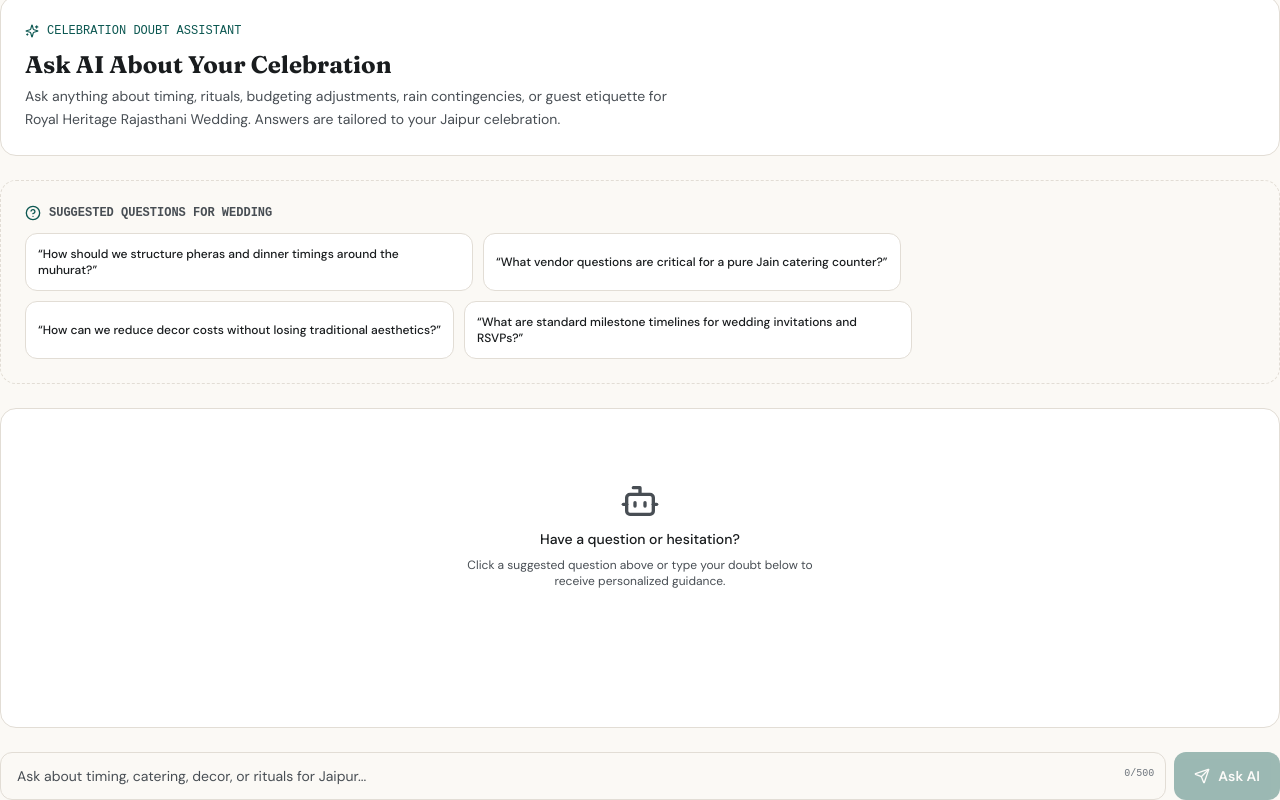
TabAskAi Component › submits a user question and renders AI response
This screenshot has width=1280, height=800.
Step 1. Type "What is the best timing for pheras?" into the field named "Ask a celebration doubt or question" → coordinates (583, 776), box [0,752,1166,799]
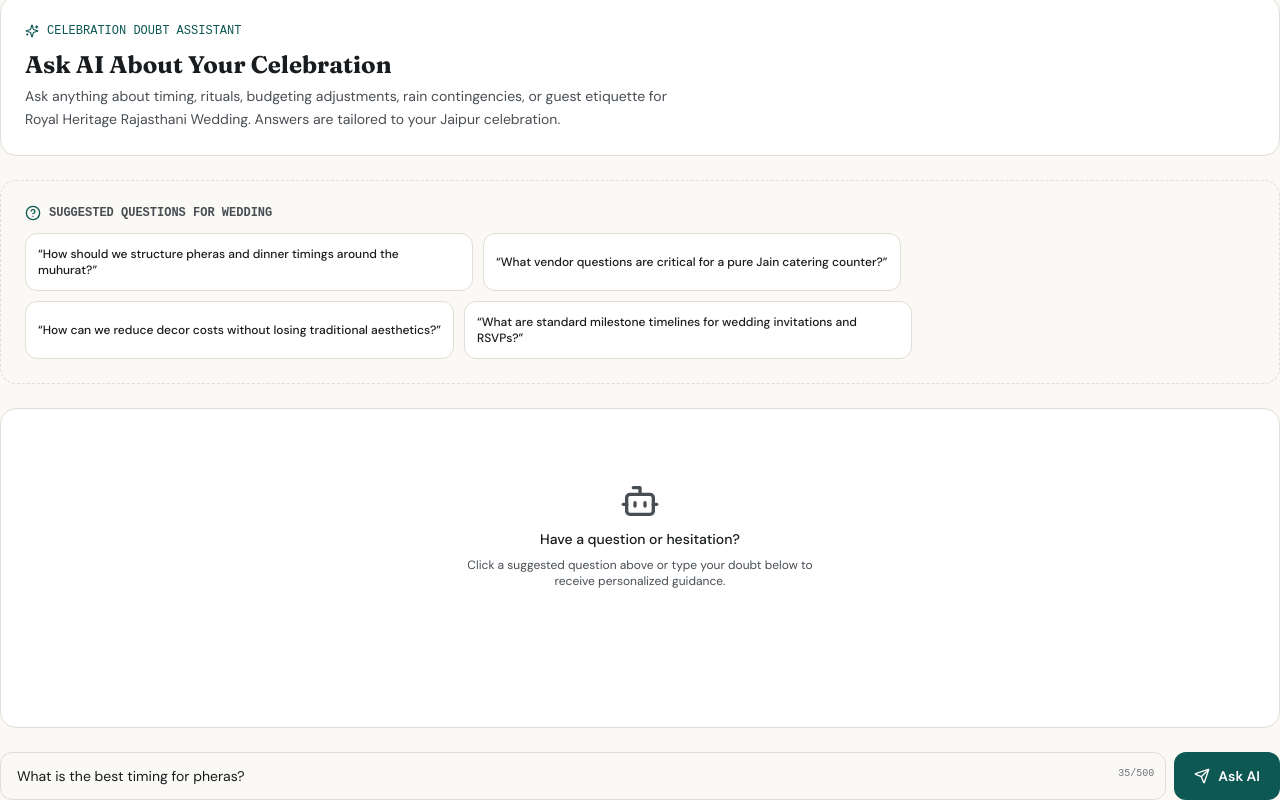
Step 2. Click the button with aria-label "Send celebration inquiry" → coordinates (1227, 776), box [1174,752,1279,799]
(page scrolled)
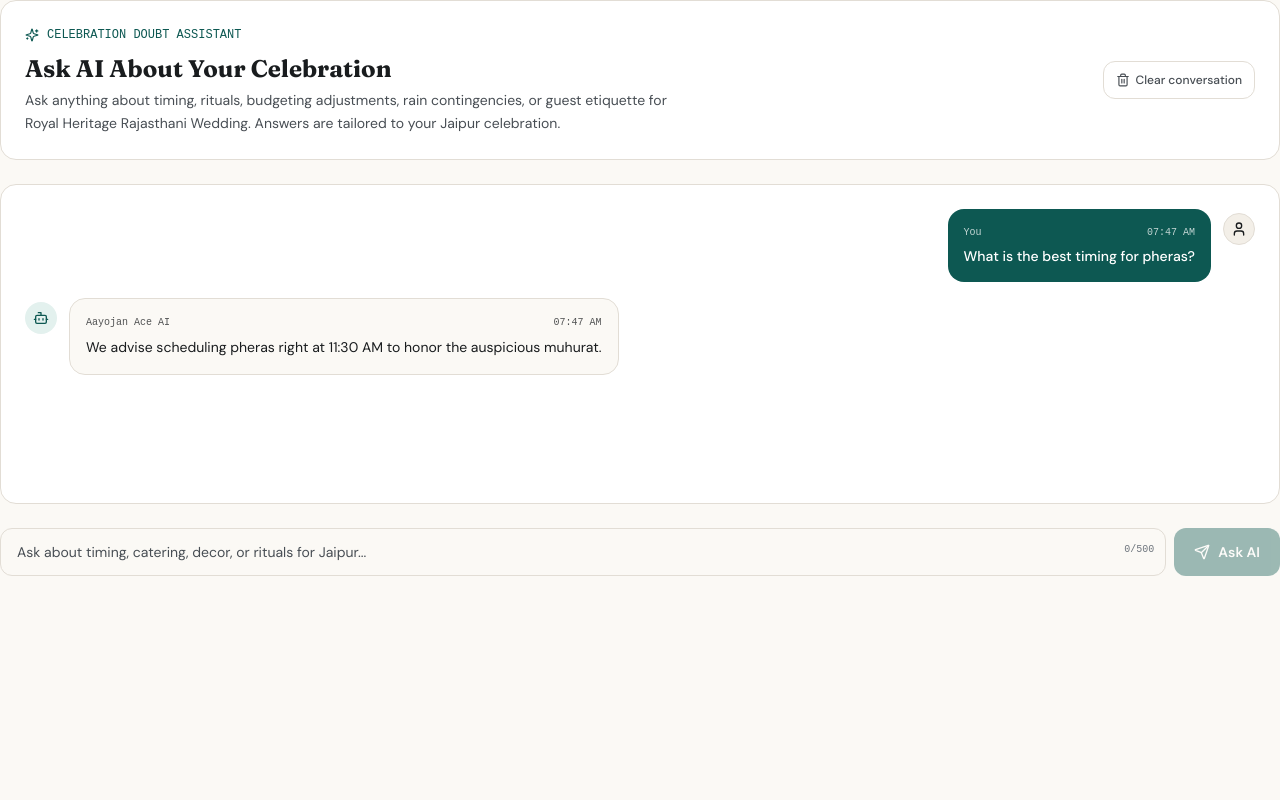
expect the text "We advise scheduling pheras right at 11:30 AM" is shown: met, box [86,338,602,356]
